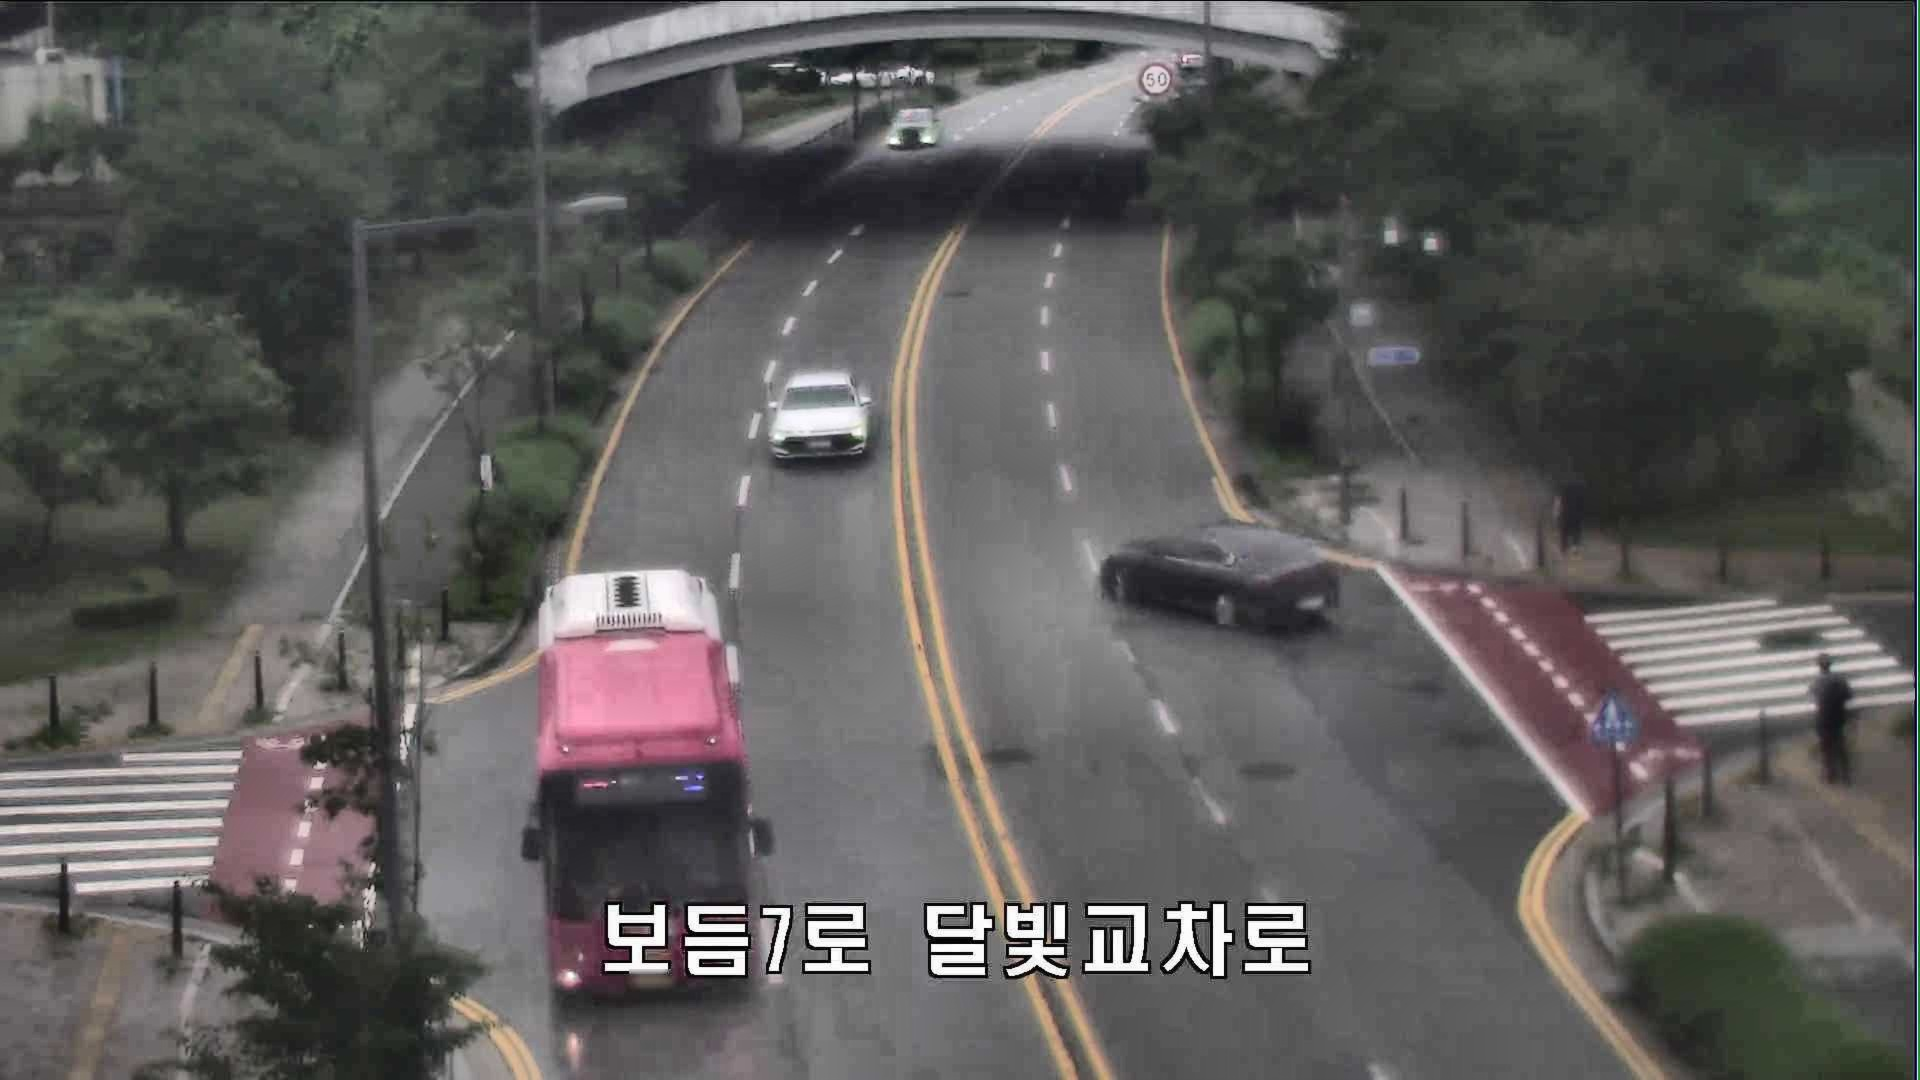sidewalk: (1809, 650, 1859, 787), (1547, 455, 1590, 559)
